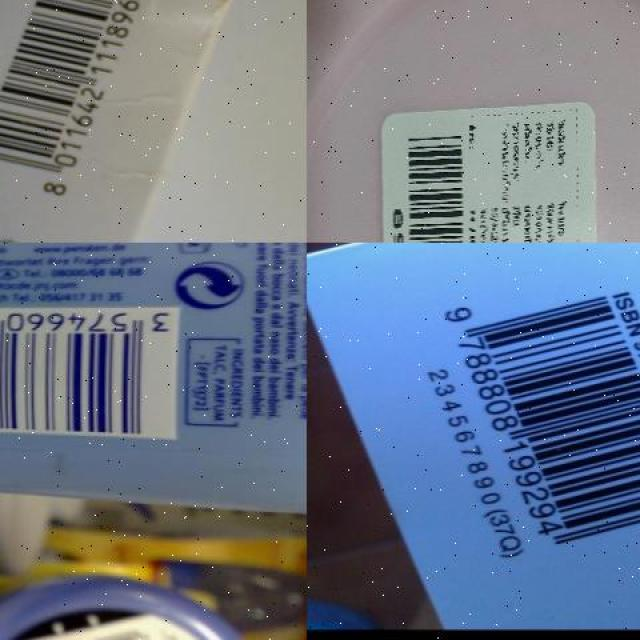Barcode: (430, 269, 640, 562), (0, 0, 167, 215), (0, 305, 181, 441), (388, 124, 476, 243)
